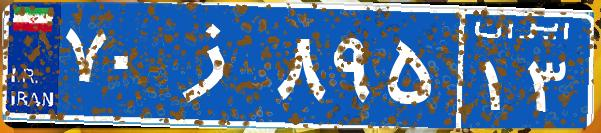0: (110, 28, 158, 105)
1: (475, 38, 525, 113)
3: (525, 38, 570, 115)
5: (385, 28, 445, 110)
7: (57, 26, 110, 107)
8: (273, 28, 330, 110)
9: (330, 28, 385, 110)
ز: (158, 15, 273, 115)
